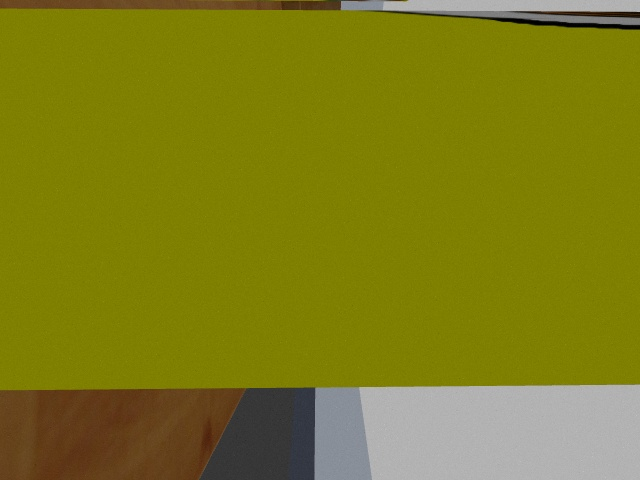chipsdose_gelb: (1, 8, 640, 390)
